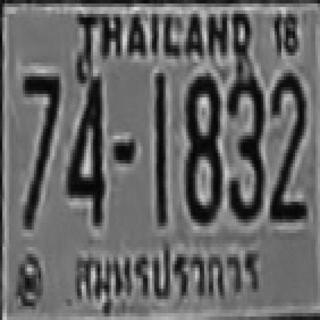N01: (152, 73, 166, 222)
N02: (268, 71, 304, 221), (269, 70, 305, 209)
N03: (226, 73, 264, 219)
N04: (66, 70, 102, 222)
N07: (20, 73, 59, 226), (20, 75, 59, 210), (20, 73, 59, 177)
N08: (184, 71, 220, 221)
P57: (69, 246, 272, 319)
